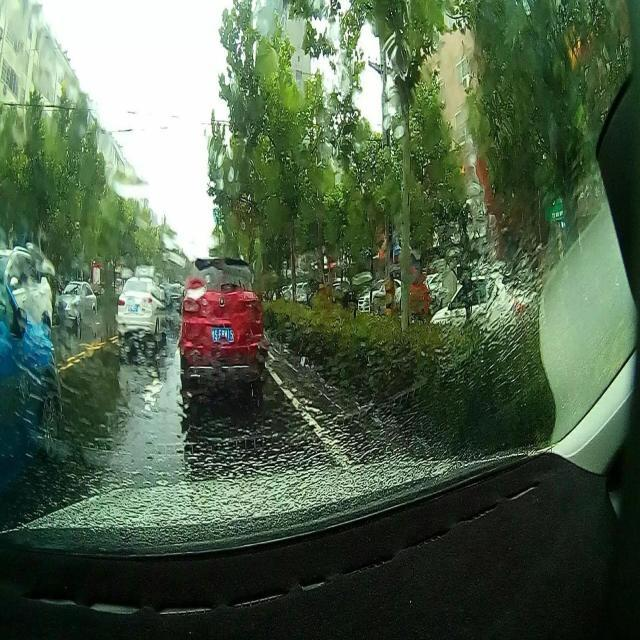car: (0, 278, 60, 492), (178, 259, 268, 390), (0, 242, 53, 330), (116, 276, 160, 341), (56, 277, 95, 323), (171, 278, 181, 316)
